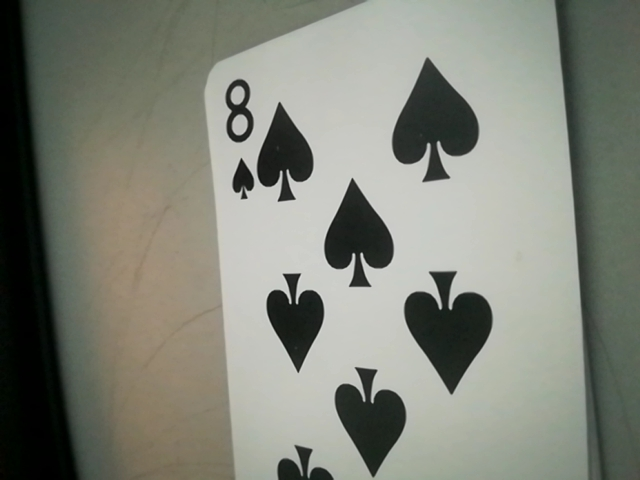ht 8: (212, 65, 273, 210)
